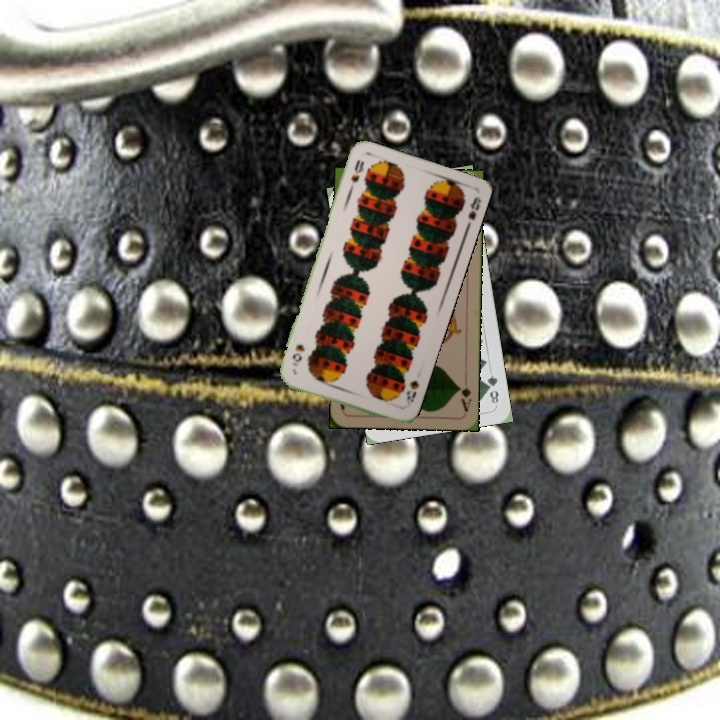G8: (483, 371, 501, 406)
GA: (454, 373, 474, 414)
S8: (345, 156, 367, 193), (402, 376, 422, 408)
